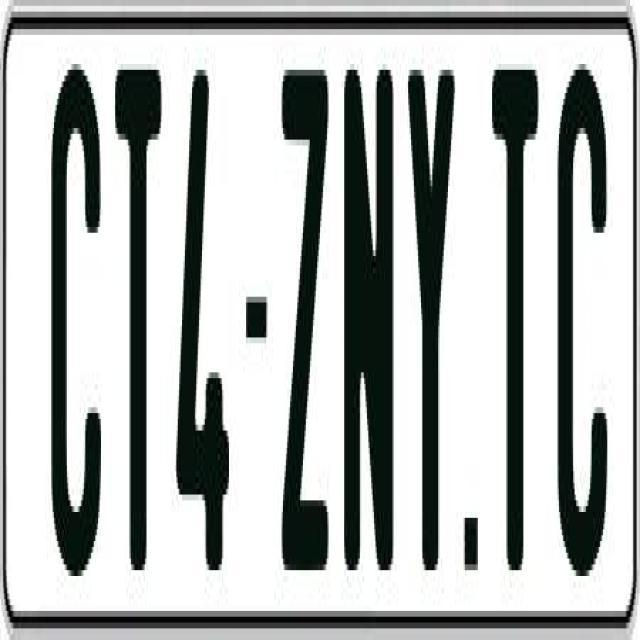4: (172, 64, 230, 594)
C: (554, 52, 608, 594), (46, 52, 100, 564)
N: (342, 52, 396, 558)
T: (490, 58, 538, 582), (115, 63, 161, 600)
Y: (405, 70, 455, 576)
Z: (280, 70, 327, 570)
